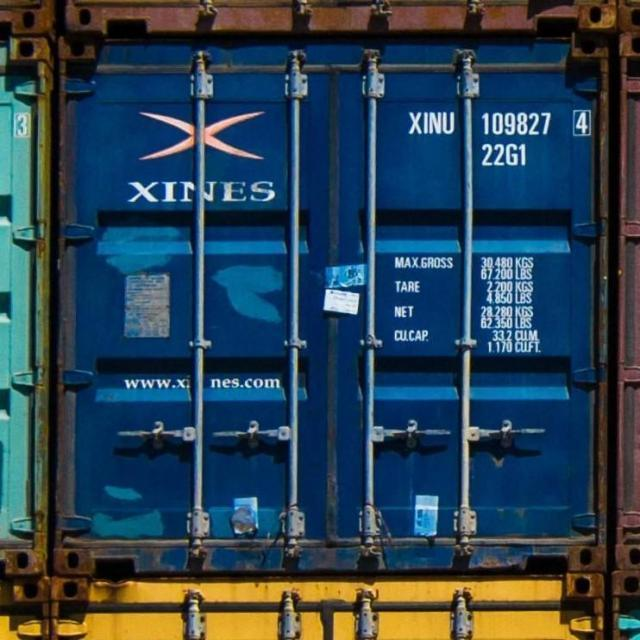ISO: (479, 142, 528, 168)
container_number: (408, 110, 588, 137)
